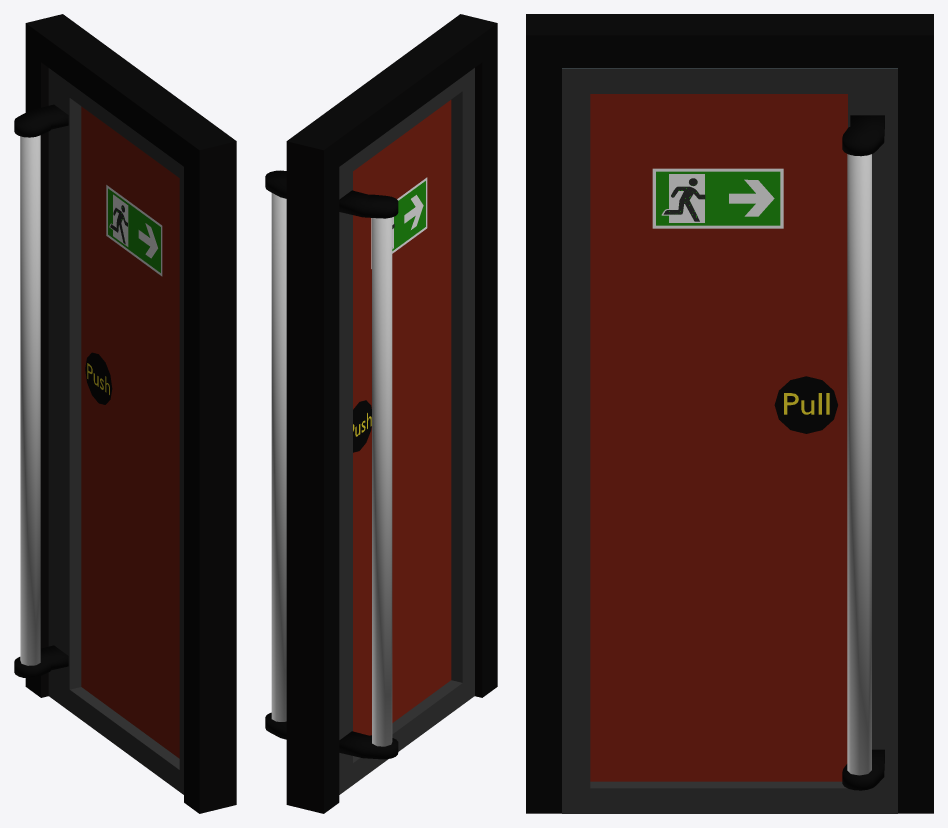
The model's file is 3DModel_ExitDoor.glb.
The picture shows the model from 3 angles, left to right: view 1: azimuth 30°, elevation 25°; view 2: azimuth 150°, elevation 25°; view 3: azimuth 270°, elevation 25°; orthographic projection. The views are drawn at different scales.
Visible parts, largest first — view 1: Door, C_Ausgangstür; view 2: Door, C_Ausgangstür; view 3: Door, C_Ausgangstür.
Part boxes in pixels (bbox=[...]): Door: bbox=[14, 68, 183, 794]; C_Ausgangstür: bbox=[25, 14, 236, 813]; Door: bbox=[265, 68, 474, 794]; C_Ausgangstür: bbox=[286, 14, 497, 813]; Door: bbox=[562, 68, 897, 813]; C_Ausgangstür: bbox=[526, 14, 933, 813].
Size of the model in its own units: 0.4043 by 1.99 by 0.9425.
Materials: 1 (1 with a texture image).
